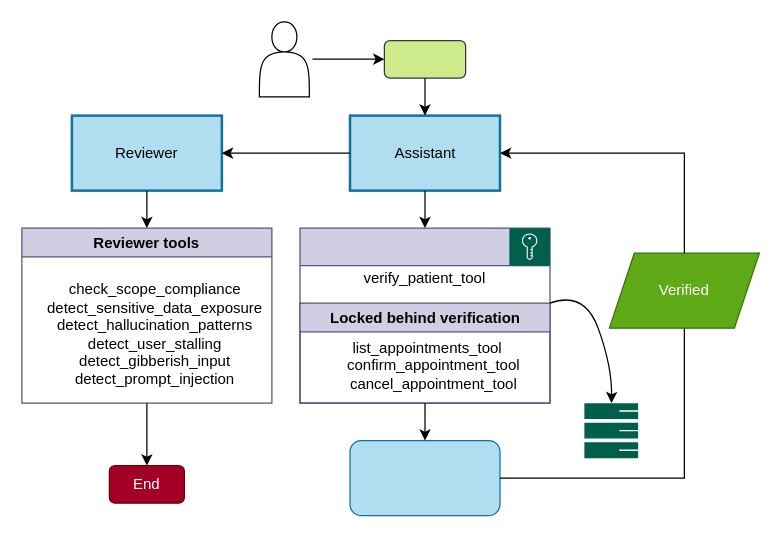
Image size: 781x538. Some labels were removed from this diagram. Each missing label, with the box of its shape:
Assistant tools: (299, 227, 550, 403)
Start: (383, 39, 466, 78)
Update state: (349, 439, 500, 516)
